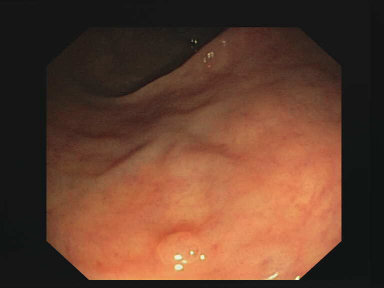polyp: (125, 210, 234, 281)
